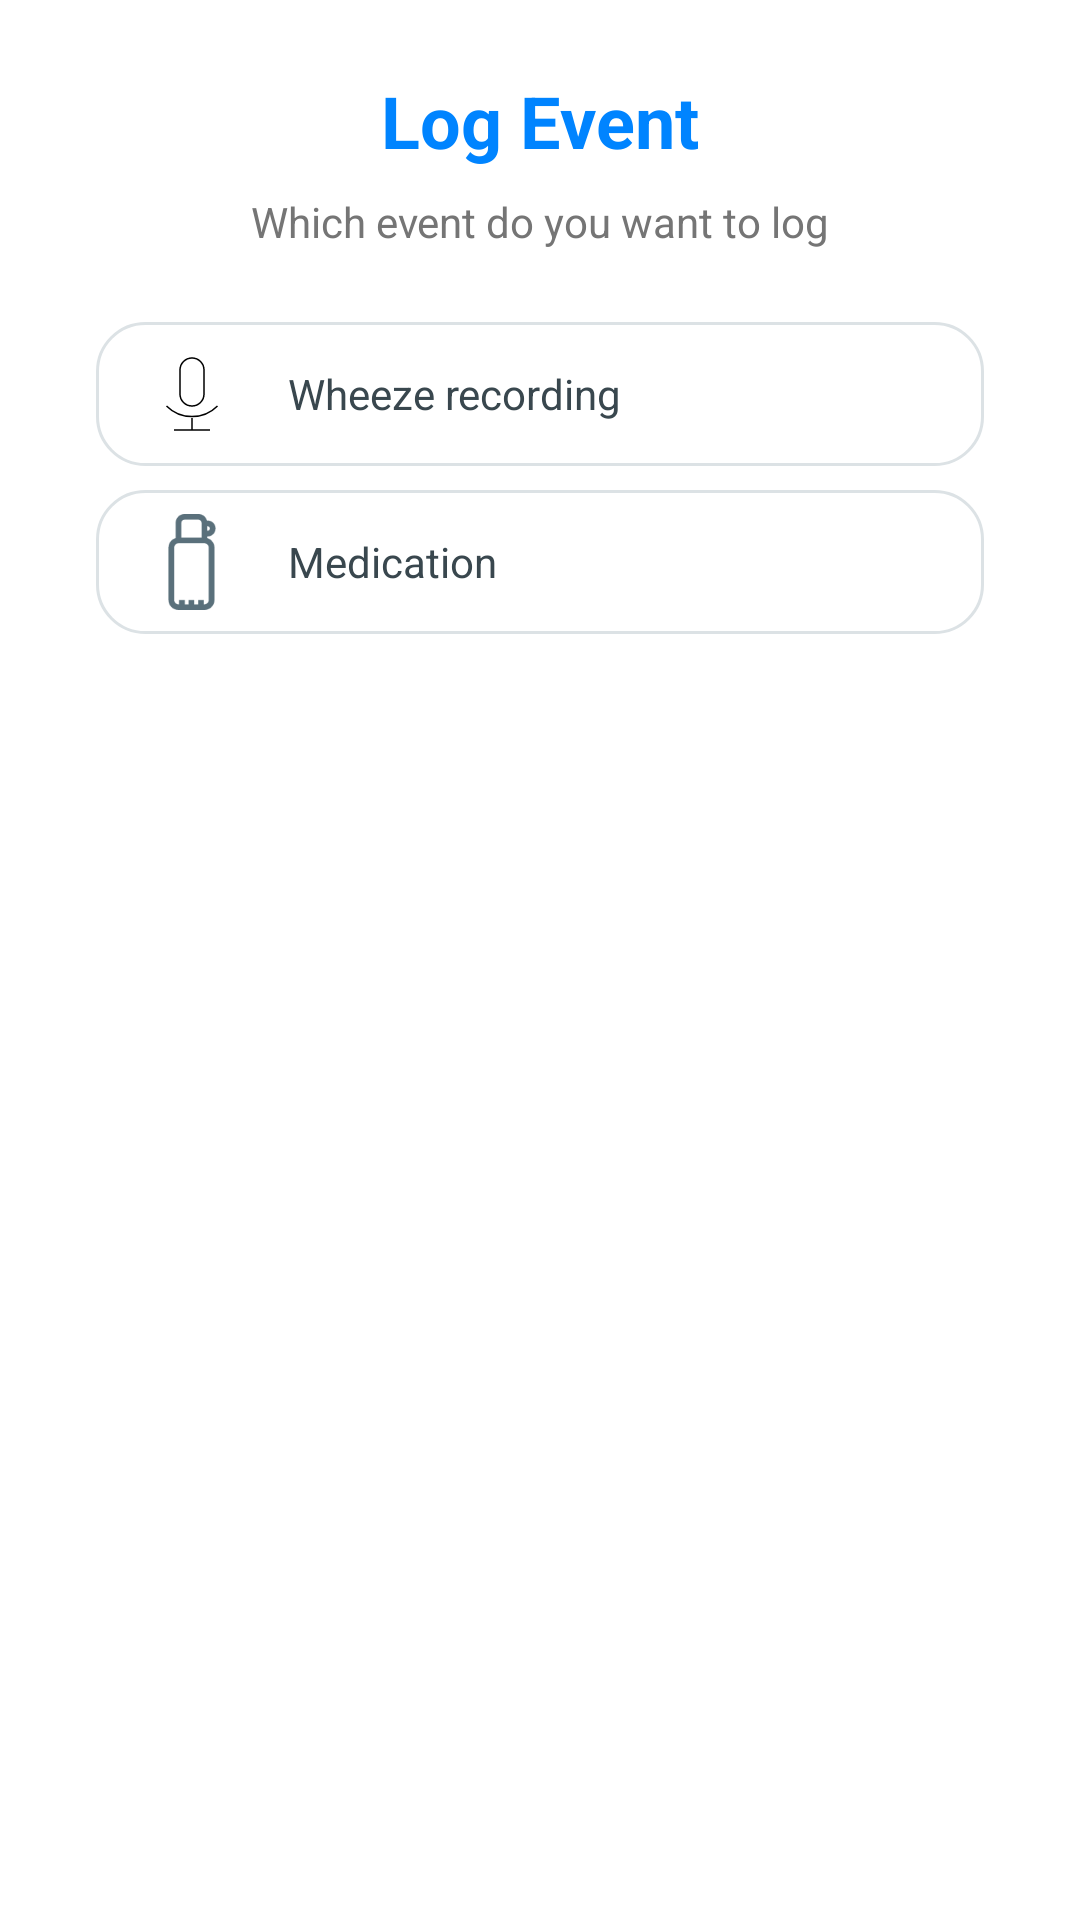

Screen size 1080×1920. Icon name, then its box in pixels as (x1, y1, x2, y2):
thermos: (168, 514, 216, 610)
